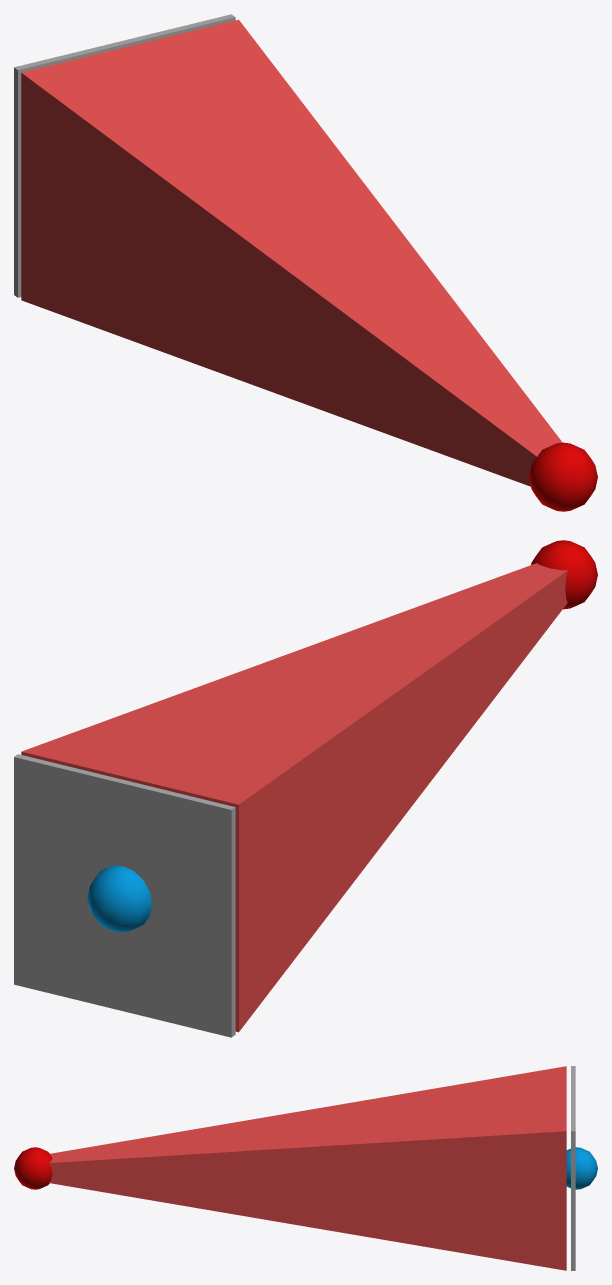
The model's file is bucxa vohuong.fbx.
3 views of the same model, one above another, from view 1: azimuth 30°, elevation 25°; view 2: azimuth 150°, elevation 25°; view 3: azimuth 270°, elevation 25° (orthographic). The views are drawn at different scales.
Visible parts, largest first — view 1: cone, A, S; view 2: cone, S, M, A; view 3: cone, A, S, M.
Part boxes in pixels (x1=…): cone: x1=21, y1=19, x2=562, y2=486; A: x1=529, y1=442, x2=597, y2=511; S: x1=14, y1=14, x2=235, y2=297; cone: x1=21, y1=563, x2=567, y2=1032; S: x1=14, y1=754, x2=235, y2=1037; M: x1=87, y1=865, x2=152, y2=932; A: x1=531, y1=540, x2=597, y2=609; cone: x1=48, y1=1066, x2=566, y2=1270; A: x1=14, y1=1147, x2=52, y2=1189; S: x1=571, y1=1066, x2=575, y2=1270; M: x1=566, y1=1147, x2=597, y2=1189.
Bounding box in the file's own units: 4 × 4 × 15.16.
